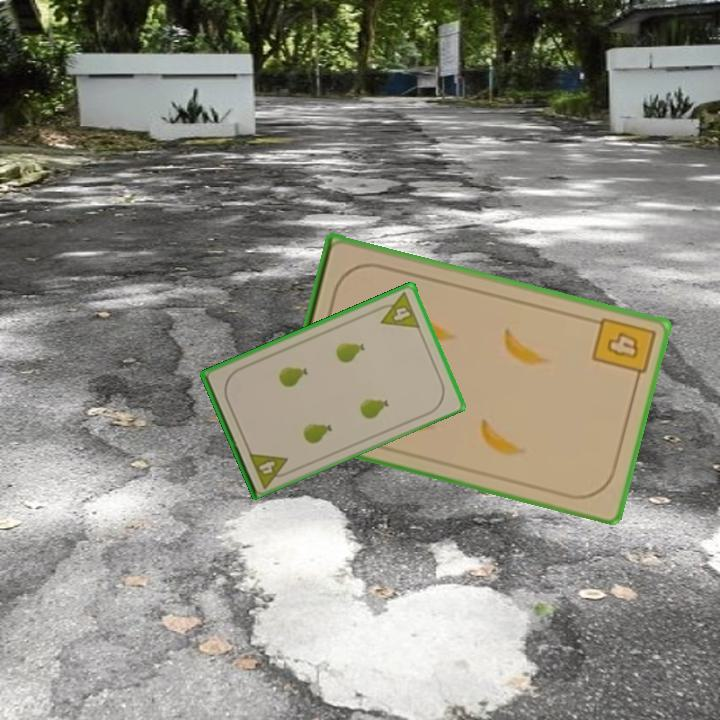4b: (588, 313, 658, 386)
4p: (372, 289, 423, 331), (245, 448, 295, 490)
